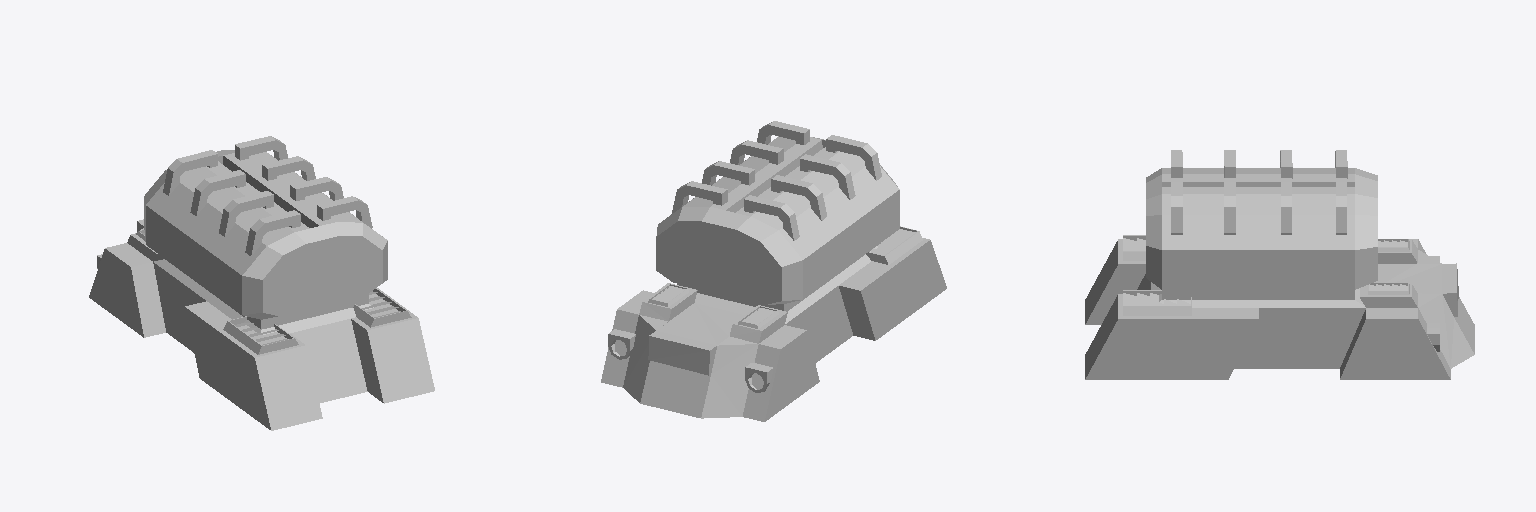
Rendered from FacilityModule.obj.
3 renders of one model, left to right at view 1: azimuth 30°, elevation 25°; view 2: azimuth 150°, elevation 25°; view 3: azimuth 270°, elevation 25°, orthographic.
Size of the model in its own units: 6.85 by 6.7 by 14.1.